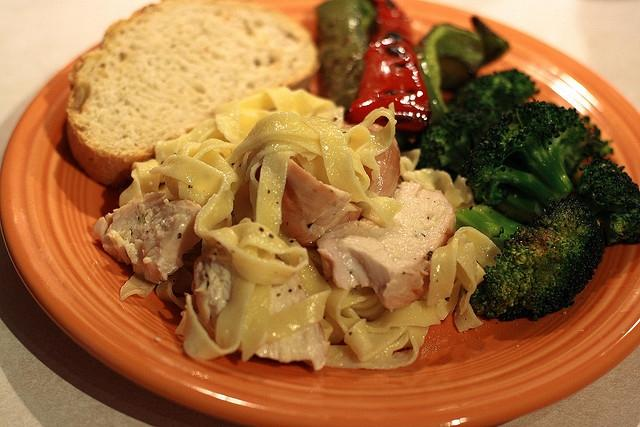bell pepper: (413, 16, 510, 124), (346, 24, 430, 132)
broccoli: (454, 198, 606, 322), (458, 98, 590, 210), (412, 104, 502, 180), (572, 158, 640, 247), (446, 69, 538, 113)
